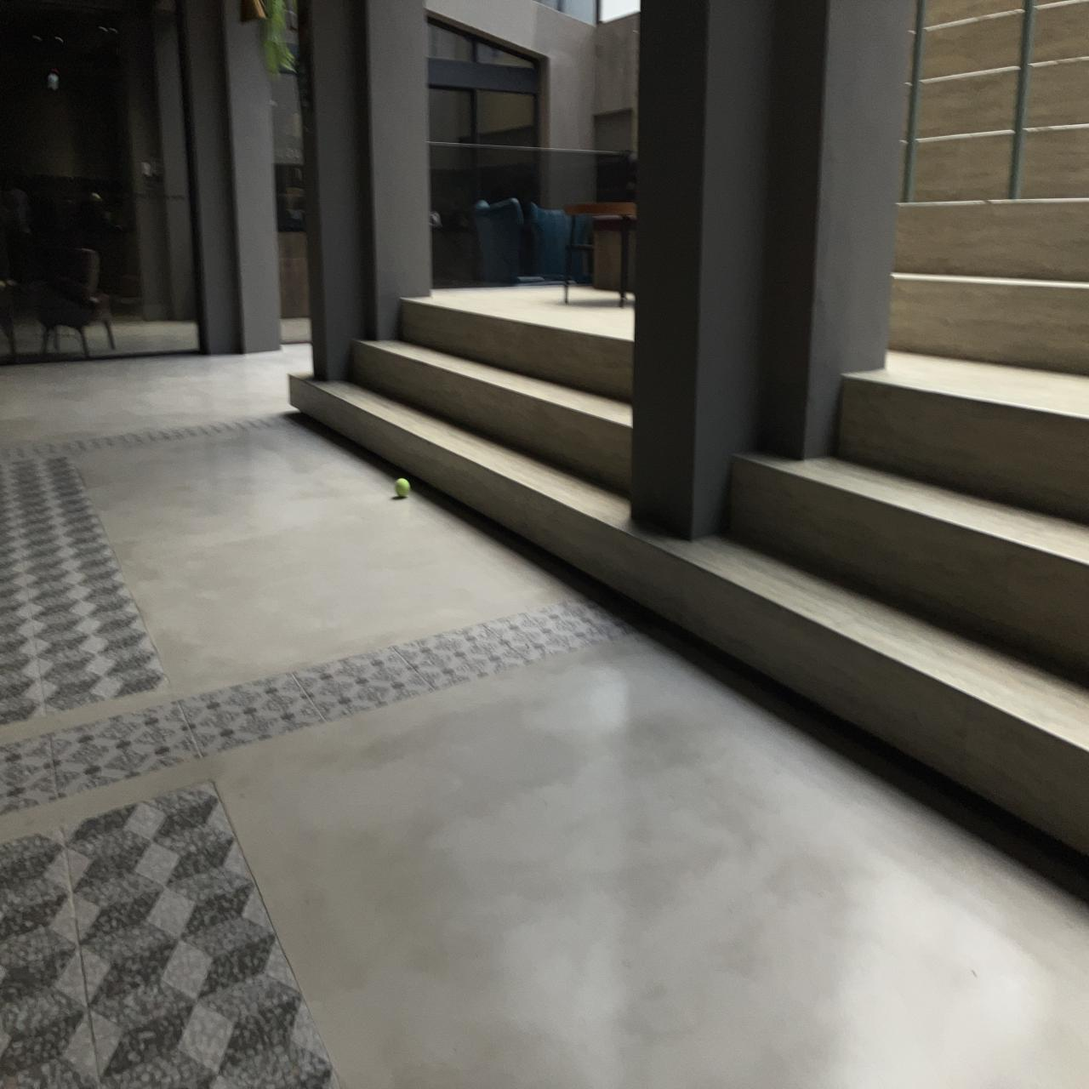tennisball: (396, 478, 410, 498)
